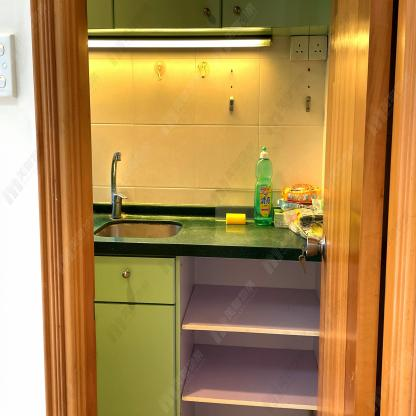Faucet: (104, 148, 127, 220)
Sink: (94, 215, 197, 245)
